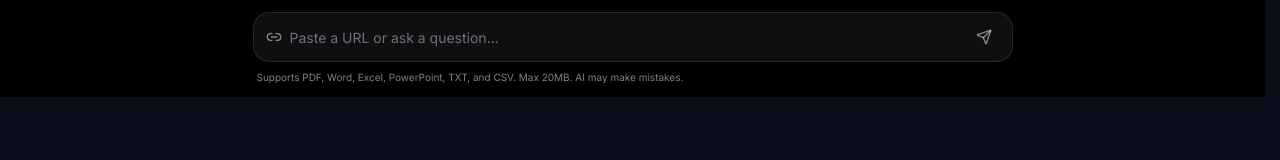
Test: ChatInputBar › clears input on clear button click
Type "Some text" into the field named "Enter a URL, upload a file, or type a message" at point(620, 38), box [290,28,952,48]
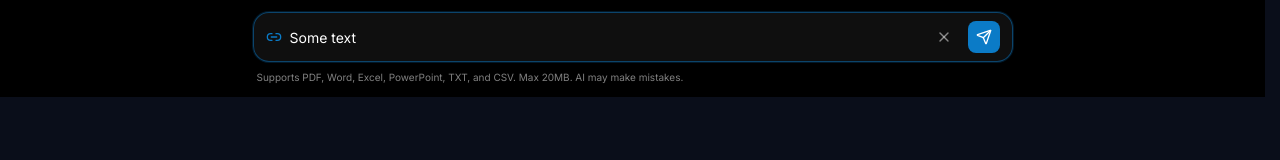
Click the button named "Clear input" at point(944, 37), box [936,29,952,45]
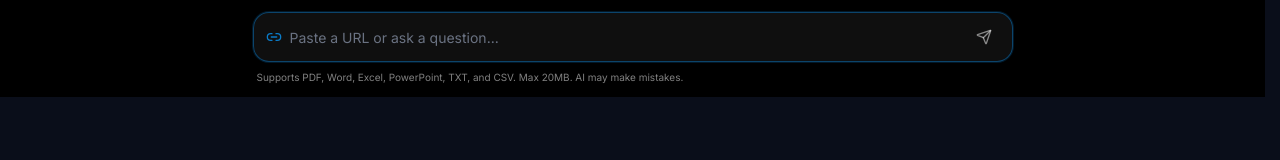
Check: the field named "Enter a URL, upload a file, or type a message" is empty, box [290,28,952,48]
